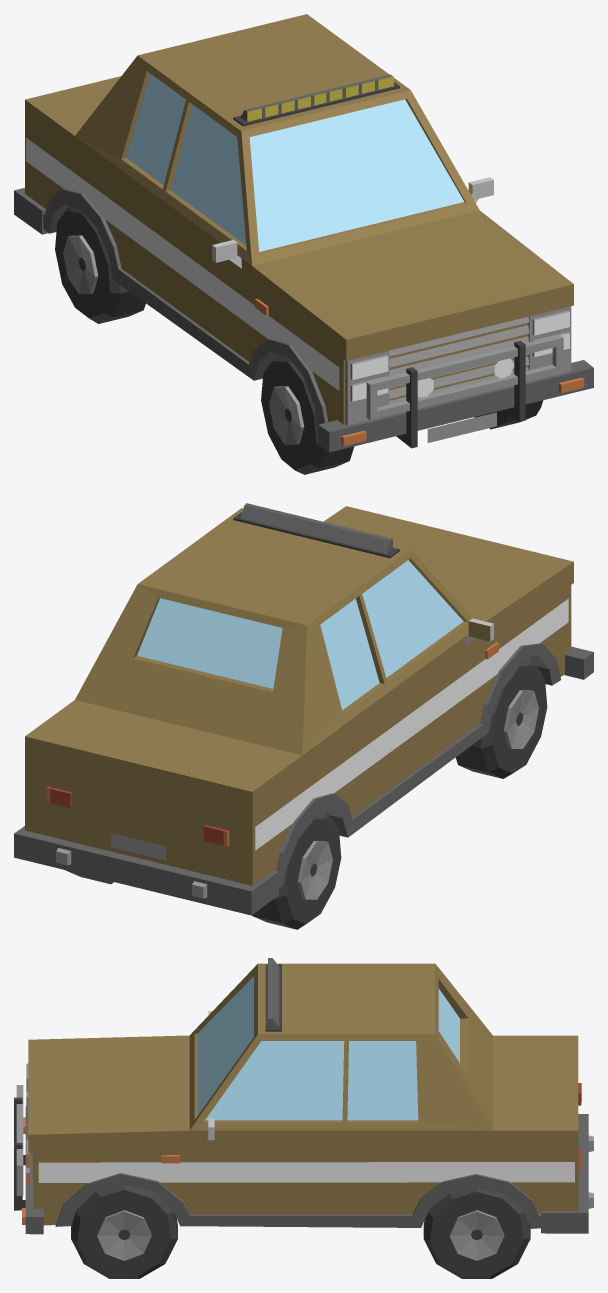
File: transport_jeep_001.glb
The picture shows the model from 3 angles, top to bottom: view 1: azimuth 30°, elevation 25°; view 2: azimuth 150°, elevation 25°; view 3: azimuth 270°, elevation 25°; orthographic projection. The views are drawn at different scales.
Parts seen in each view (by area): view 1: transport_jeep_001; view 2: transport_jeep_001; view 3: transport_jeep_001.
Boxes of the visible parts, x1,y1,x2,y2 form: transport_jeep_001: [14, 14, 593, 474]; transport_jeep_001: [14, 503, 593, 929]; transport_jeep_001: [14, 958, 593, 1278].
Bounding box in the file's own units: 1.79 × 1.76 × 3.77.
1 material, 1 textured.
